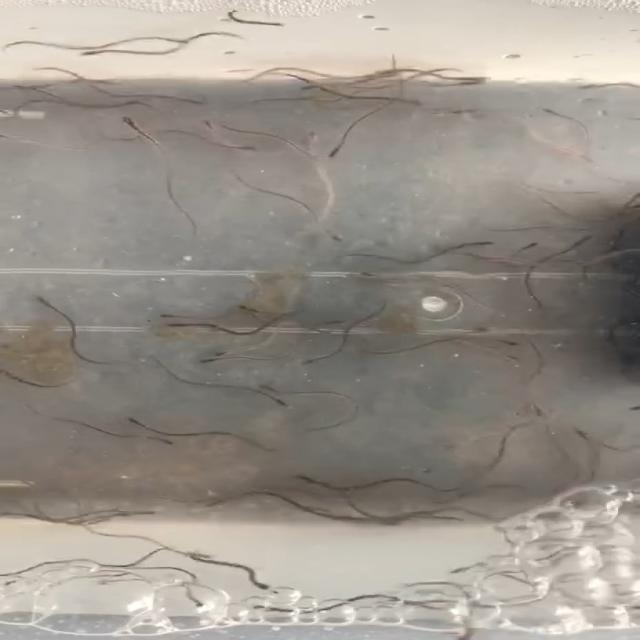active_glass_eel: (184, 599, 222, 617), (240, 601, 282, 617), (243, 579, 282, 596), (284, 470, 324, 486), (571, 76, 615, 90), (352, 269, 392, 284), (564, 231, 592, 252), (356, 69, 402, 81), (384, 94, 426, 107), (182, 548, 220, 562), (322, 144, 351, 162), (29, 294, 59, 311), (181, 94, 212, 110), (157, 318, 202, 329), (459, 237, 497, 250), (316, 315, 354, 328), (320, 227, 349, 244), (252, 379, 284, 394), (190, 496, 220, 511), (436, 512, 468, 526), (506, 405, 535, 420), (295, 81, 331, 93), (448, 562, 481, 575), (266, 398, 296, 412), (90, 75, 128, 86), (514, 240, 540, 256), (571, 426, 594, 444), (460, 71, 494, 83), (157, 311, 191, 323), (77, 46, 110, 58), (305, 130, 328, 147), (214, 346, 240, 360), (124, 415, 152, 428), (150, 437, 178, 450), (0, 108, 26, 122), (198, 118, 220, 134), (498, 350, 520, 366), (302, 355, 331, 367), (568, 150, 594, 163), (498, 337, 524, 350), (468, 324, 494, 337), (116, 116, 140, 130), (230, 301, 260, 312), (196, 356, 225, 367), (164, 36, 191, 47), (229, 142, 258, 152), (136, 510, 160, 522), (457, 79, 488, 88), (623, 397, 640, 412), (540, 105, 558, 119)
